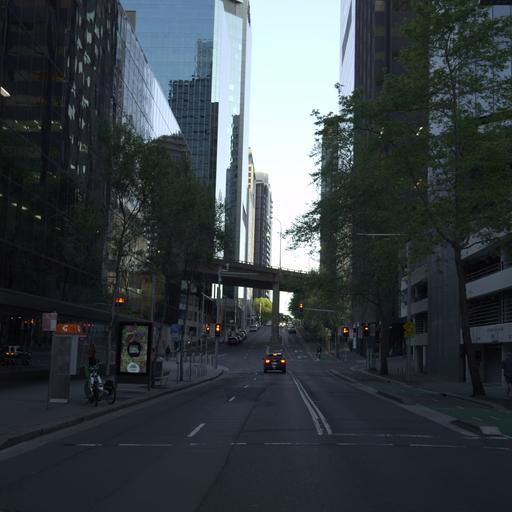Street light: (266, 214, 283, 340), (212, 262, 229, 368), (267, 214, 282, 269), (298, 302, 303, 312)
